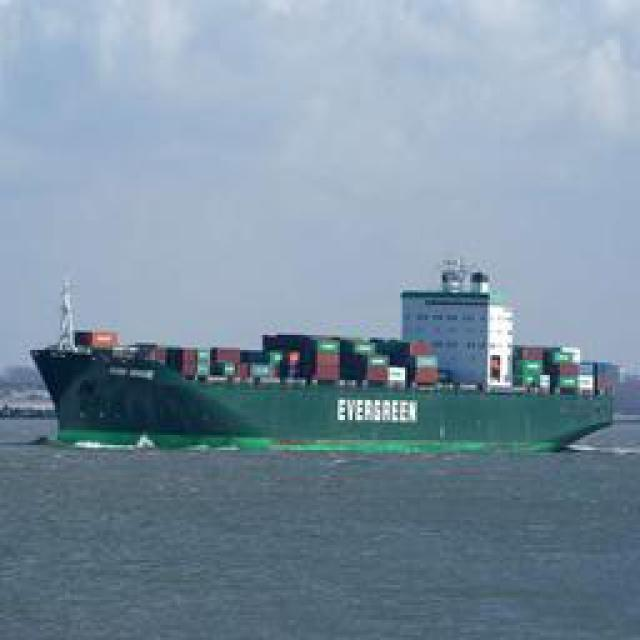Ship: (14, 266, 629, 459)
